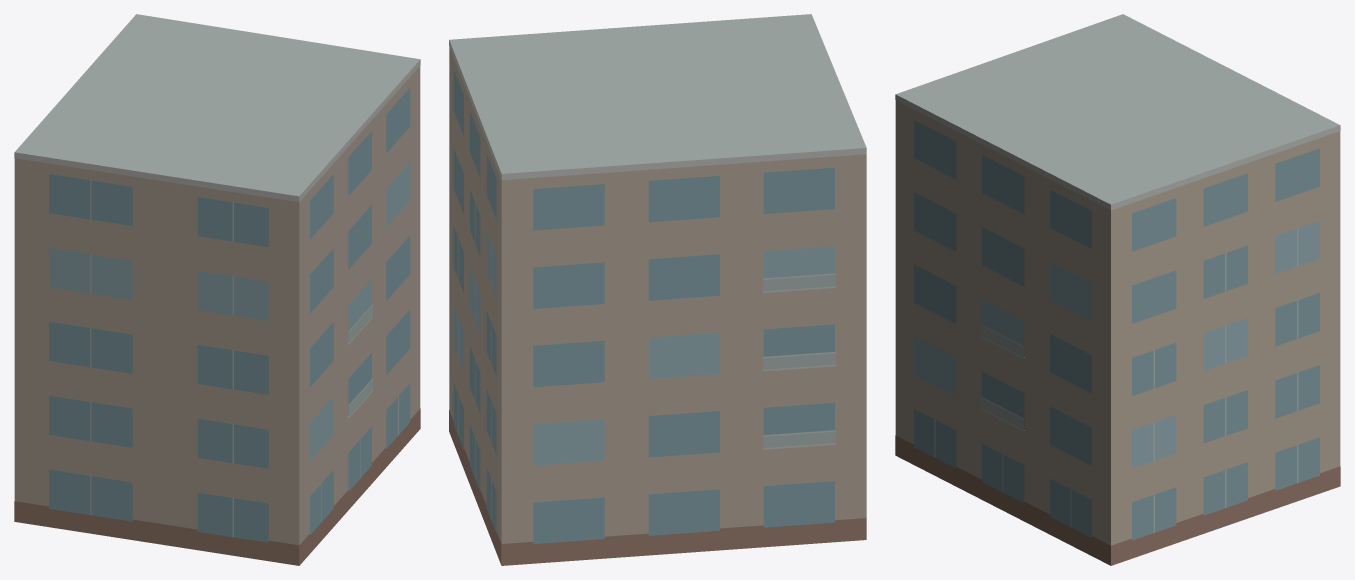
The model's file is survey-upis-32840728.glb.
3 views of the same model, side by side, from view 1: azimuth 30°, elevation 25°; view 2: azimuth 150°, elevation 25°; view 3: azimuth 270°, elevation 25° (orthographic). The views are drawn at different scales.
Parts seen in each view (by area): view 1: survey-upis-32840728.tmp; view 2: survey-upis-32840728.tmp; view 3: survey-upis-32840728.tmp.
Part boxes in pixels (left/top/right/bottom): survey-upis-32840728.tmp: left=14, top=14, right=420, bottom=565; survey-upis-32840728.tmp: left=449, top=14, right=866, bottom=565; survey-upis-32840728.tmp: left=895, top=14, right=1340, bottom=565.
Size of the model in its own units: 17.33 by 15.3 by 17.09.
